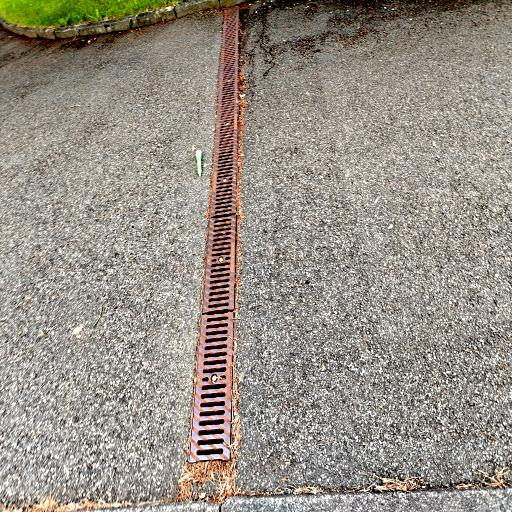Probe-Detection: (196, 150, 202, 176)
